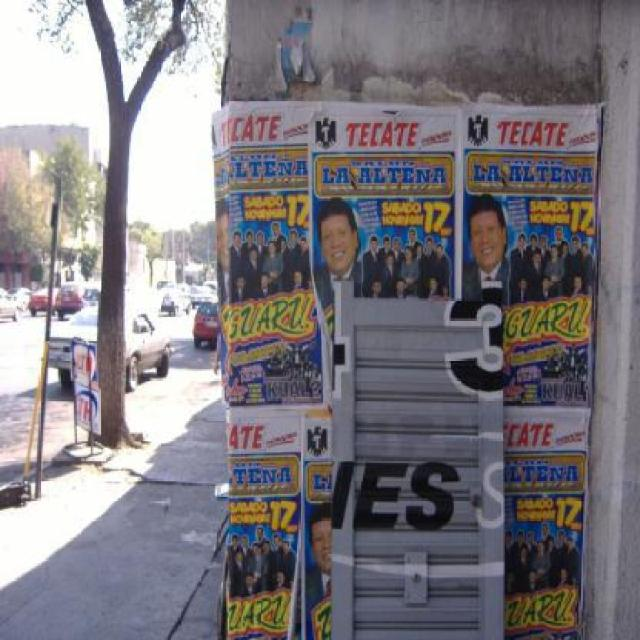Person: (507, 228, 593, 304), (362, 226, 453, 297), (316, 197, 362, 321), (506, 521, 580, 594), (225, 527, 297, 599), (464, 197, 508, 306), (308, 499, 334, 639), (263, 340, 322, 395), (542, 341, 590, 393), (216, 197, 230, 309), (223, 231, 246, 294), (266, 240, 283, 292), (278, 239, 292, 290), (299, 239, 313, 287), (247, 246, 259, 299), (286, 233, 302, 270), (267, 218, 285, 247), (253, 232, 267, 265), (233, 275, 247, 302), (240, 230, 254, 255), (258, 273, 273, 296), (292, 268, 308, 287)
